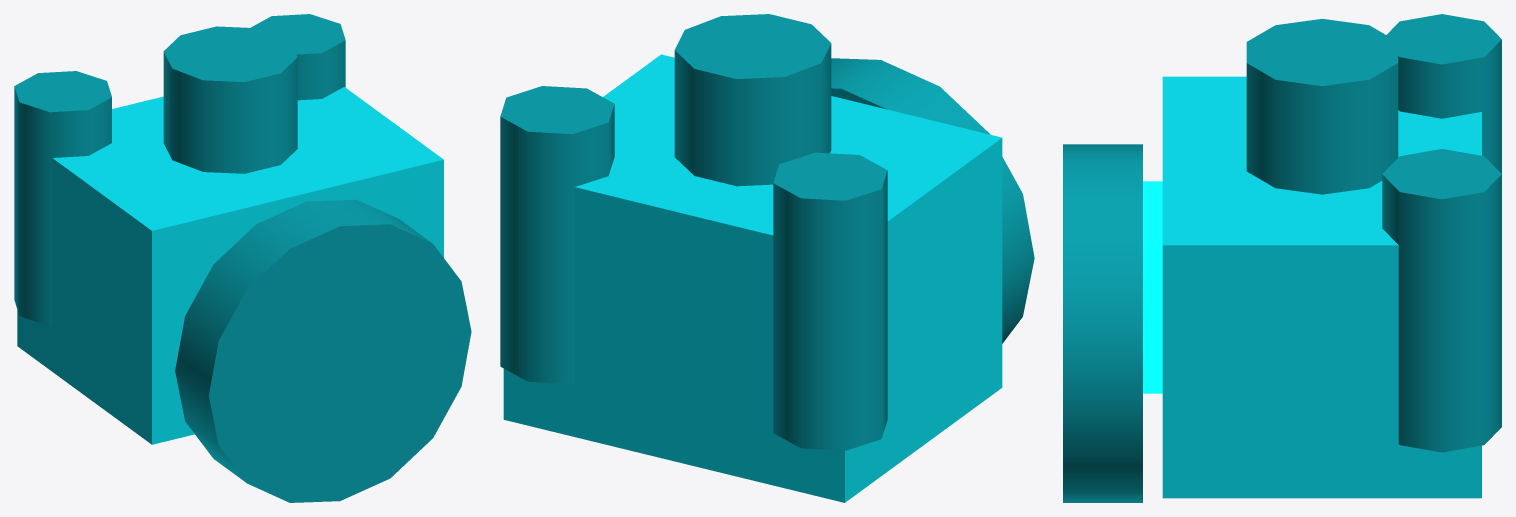
File: motor_vapor.glb
3 renders of one model, left to right at view 1: azimuth 30°, elevation 25°; view 2: azimuth 150°, elevation 25°; view 3: azimuth 270°, elevation 25°, orthographic. The views are drawn at different scales.
Parts seen in each view (by area): view 1: Detail, Body; view 2: Body, Detail; view 3: Detail, Body, Glow.
Part boxes in pixels (left/top/right/bottom): Detail: left=14, top=14, right=471, bottom=502; Body: left=17, top=87, right=443, bottom=444; Body: left=503, top=54, right=1002, bottom=502; Detail: left=500, top=14, right=1034, bottom=450; Detail: left=1063, top=14, right=1501, bottom=502; Body: left=1162, top=76, right=1481, bottom=498; Glow: left=1143, top=181, right=1162, bottom=393.
Size of the model in its own units: 0.22 by 0.24 by 0.22.
